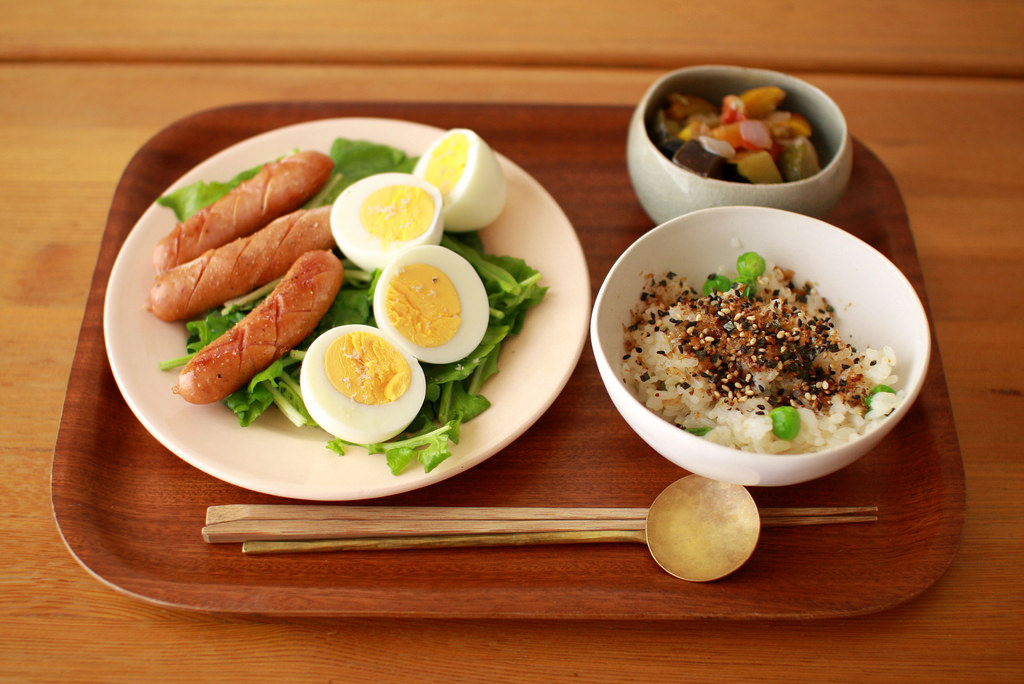chopped lettuce: (360, 139, 404, 172)
fried egg: (373, 224, 501, 370), (322, 326, 424, 444), (337, 175, 450, 267)
plain rice: (665, 372, 809, 452)
